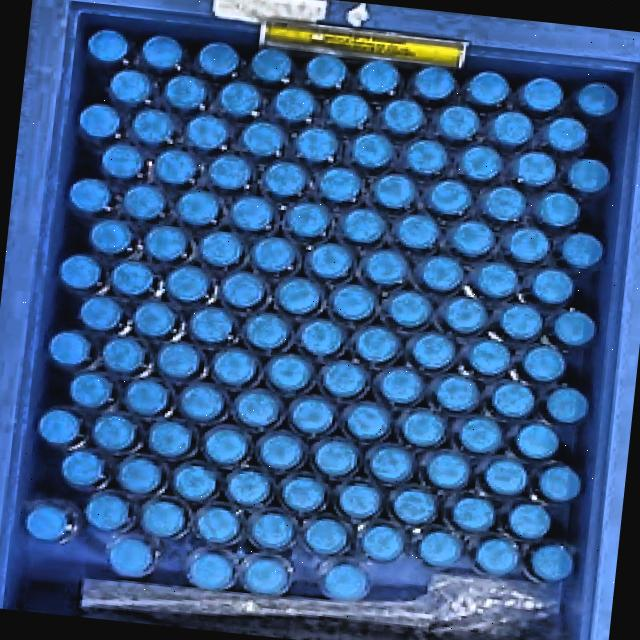vial: (240, 553, 291, 595), (321, 562, 368, 600), (84, 492, 129, 531), (188, 551, 233, 590), (528, 543, 573, 581), (24, 503, 69, 541), (109, 537, 151, 577), (474, 537, 518, 575), (417, 529, 461, 567), (250, 511, 294, 549), (490, 381, 535, 418), (172, 464, 217, 501), (280, 475, 325, 512), (442, 297, 486, 334), (434, 375, 478, 412), (322, 360, 366, 397), (425, 452, 469, 489), (92, 414, 136, 451), (36, 408, 80, 445), (60, 450, 104, 487), (227, 469, 271, 506), (266, 355, 311, 391), (258, 434, 303, 470), (360, 523, 402, 561), (466, 70, 509, 107), (467, 339, 510, 376), (402, 410, 445, 447), (313, 439, 356, 476), (118, 457, 161, 494), (337, 482, 380, 519), (451, 495, 494, 532), (141, 500, 184, 537), (412, 65, 456, 101), (499, 304, 543, 340), (276, 278, 320, 314), (189, 307, 233, 343), (354, 327, 398, 363), (411, 334, 455, 370), (522, 346, 566, 382), (378, 368, 422, 404), (458, 417, 502, 453), (515, 423, 559, 459), (368, 446, 412, 482), (204, 428, 248, 464), (391, 489, 435, 525), (507, 503, 551, 539), (518, 77, 563, 112), (305, 517, 346, 555), (58, 253, 100, 290), (213, 349, 255, 386), (345, 403, 387, 440), (538, 465, 580, 502), (197, 506, 239, 543), (208, 154, 251, 190), (263, 161, 306, 197), (474, 262, 517, 298), (133, 301, 176, 337), (245, 313, 288, 349), (299, 320, 342, 356), (545, 387, 588, 423), (102, 337, 145, 373), (125, 379, 168, 415), (235, 391, 278, 427), (484, 459, 527, 495), (341, 208, 385, 243), (88, 219, 132, 254), (308, 244, 352, 279), (363, 250, 407, 285), (156, 343, 200, 378), (273, 86, 315, 122), (452, 220, 494, 256), (554, 310, 596, 346), (389, 291, 431, 327), (332, 284, 374, 320), (222, 272, 264, 308), (166, 266, 208, 302), (49, 331, 91, 367), (149, 421, 191, 457), (436, 105, 479, 140), (567, 158, 610, 193), (513, 152, 556, 187), (396, 214, 439, 249), (286, 203, 329, 238), (420, 256, 463, 291), (79, 296, 122, 331), (68, 372, 111, 407), (291, 399, 334, 434), (251, 238, 295, 272), (181, 384, 222, 420), (576, 81, 618, 116), (357, 59, 399, 94), (250, 47, 292, 82), (197, 41, 239, 76), (164, 74, 206, 109), (381, 99, 423, 134), (490, 111, 532, 146), (294, 127, 336, 162), (131, 109, 173, 144), (154, 149, 196, 184), (373, 174, 415, 209), (483, 186, 525, 221), (508, 228, 550, 263), (177, 191, 219, 226), (532, 269, 574, 304), (544, 117, 587, 151), (459, 146, 502, 180), (305, 54, 346, 89), (142, 35, 183, 70), (219, 81, 260, 116), (406, 139, 447, 174), (186, 115, 227, 150), (319, 167, 360, 202), (537, 192, 578, 227), (201, 231, 242, 266), (111, 261, 152, 296), (87, 28, 127, 63), (329, 94, 369, 129), (352, 133, 392, 168), (243, 121, 283, 156), (78, 104, 118, 139), (562, 233, 602, 268), (123, 185, 163, 220), (70, 178, 110, 213), (145, 225, 185, 260), (109, 69, 150, 103), (101, 144, 142, 178), (429, 181, 470, 215), (232, 197, 272, 231)
